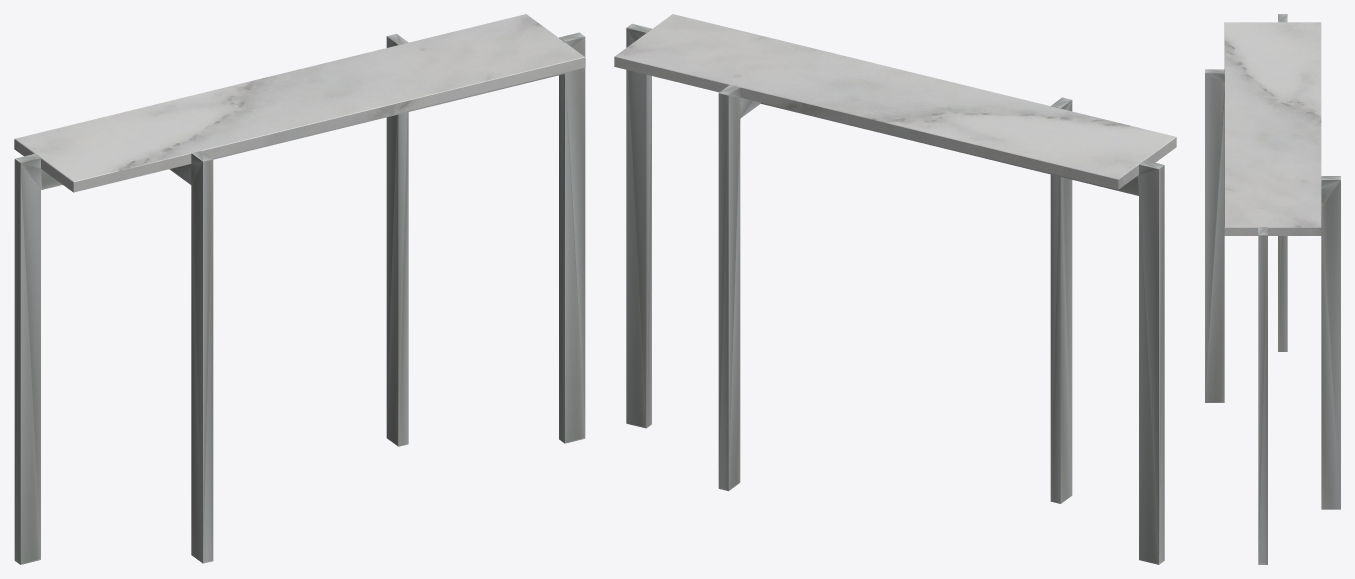
File: IbizaACB2B4.gltf
3 views of the same model, side by side, from view 1: azimuth 30°, elevation 25°; view 2: azimuth 150°, elevation 25°; view 3: azimuth 270°, elevation 25° (orthographic). The views are drawn at different scales.
Bounding box in the file's own units: 1.08 × 0.75 × 0.28.
Materials: 2 (2 with a texture image).
